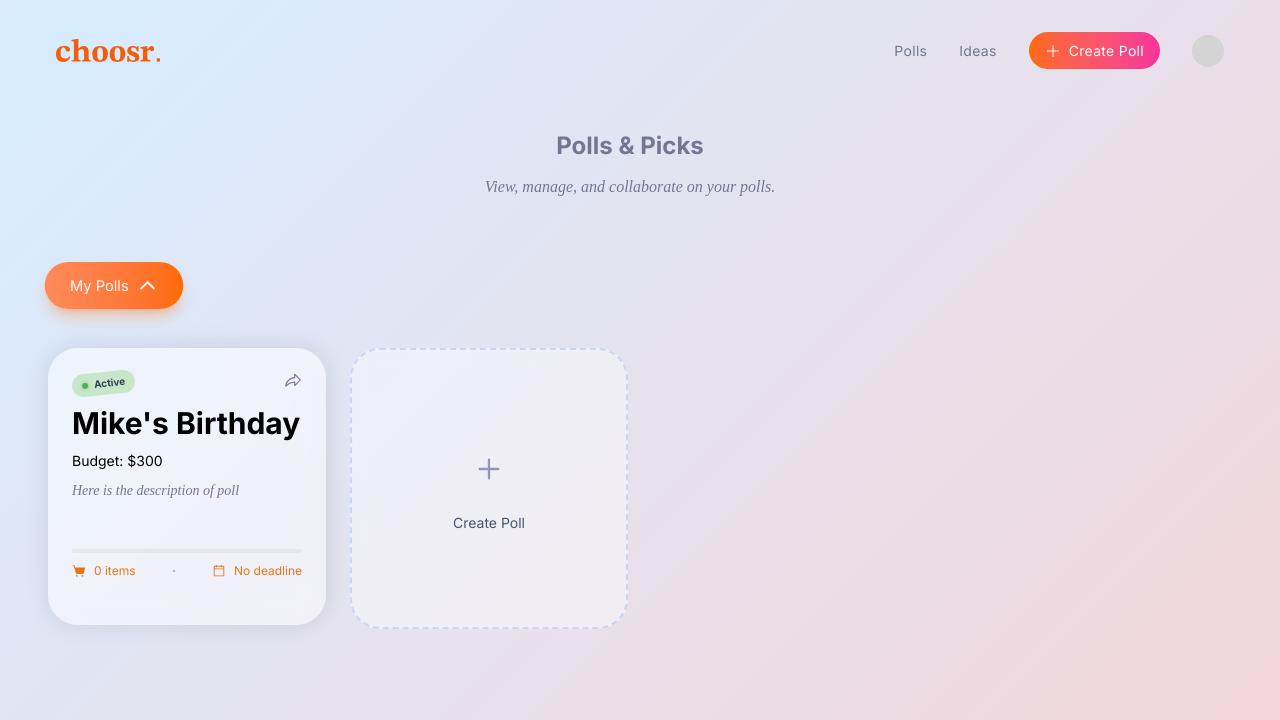
Test case: Poll Page › edits poll title succesfully
Click the heading "Mike's Birthday" at (187, 423), box [72, 405, 302, 441]
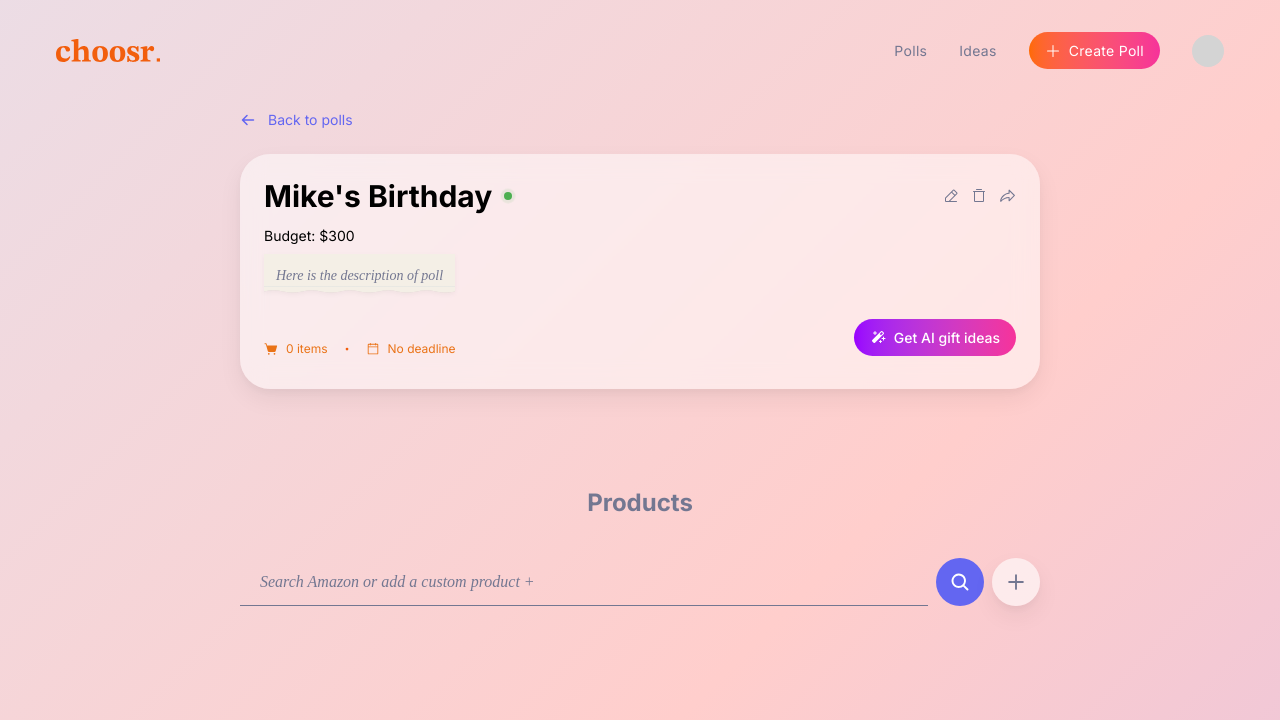
Click the icon with test id "edit-icon" at (951, 196), box [943, 188, 959, 204]
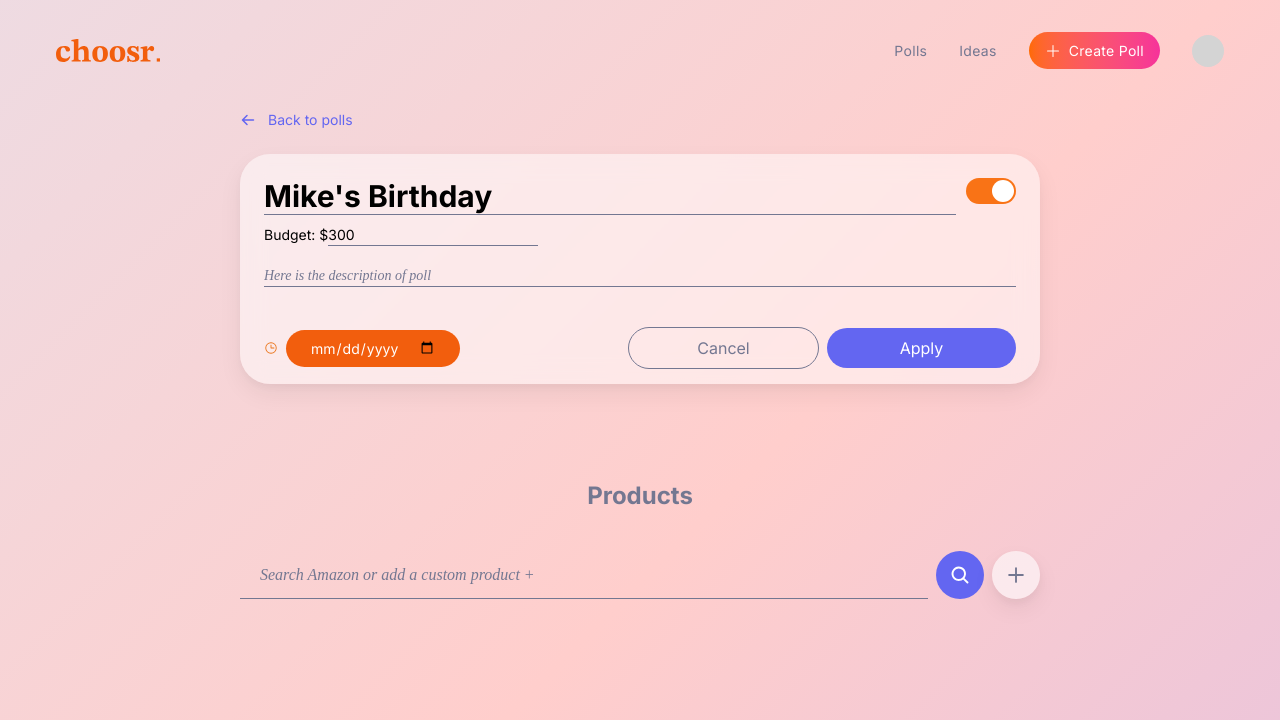
Click the button "Apply" at (922, 348), box [827, 328, 1016, 368]
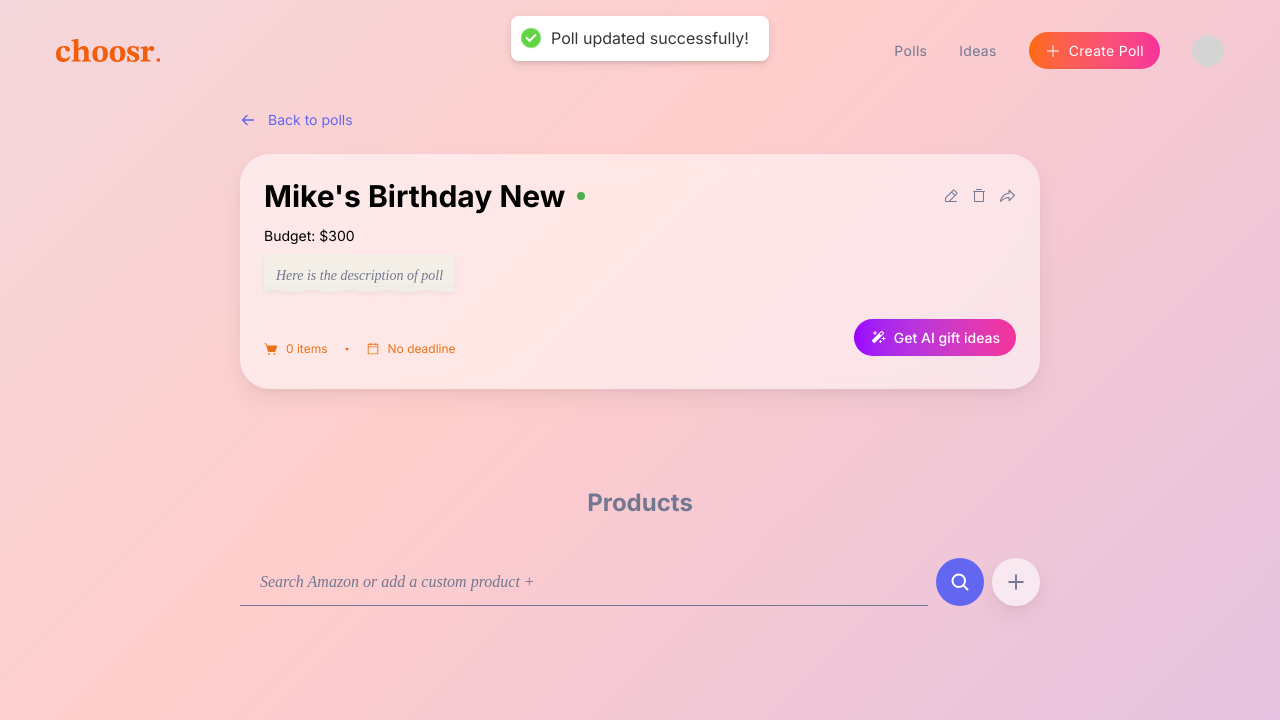
Check: the text "Poll updated successfully!" is shown, box [551, 28, 749, 49]
Check: the heading "Mike's Birthday New" is shown, box [264, 178, 565, 214]
Check: the text "Here is the description of poll" is shown, box [276, 266, 443, 286]
